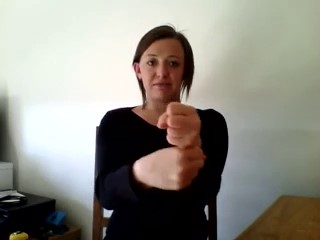G: (139, 100, 206, 197)
